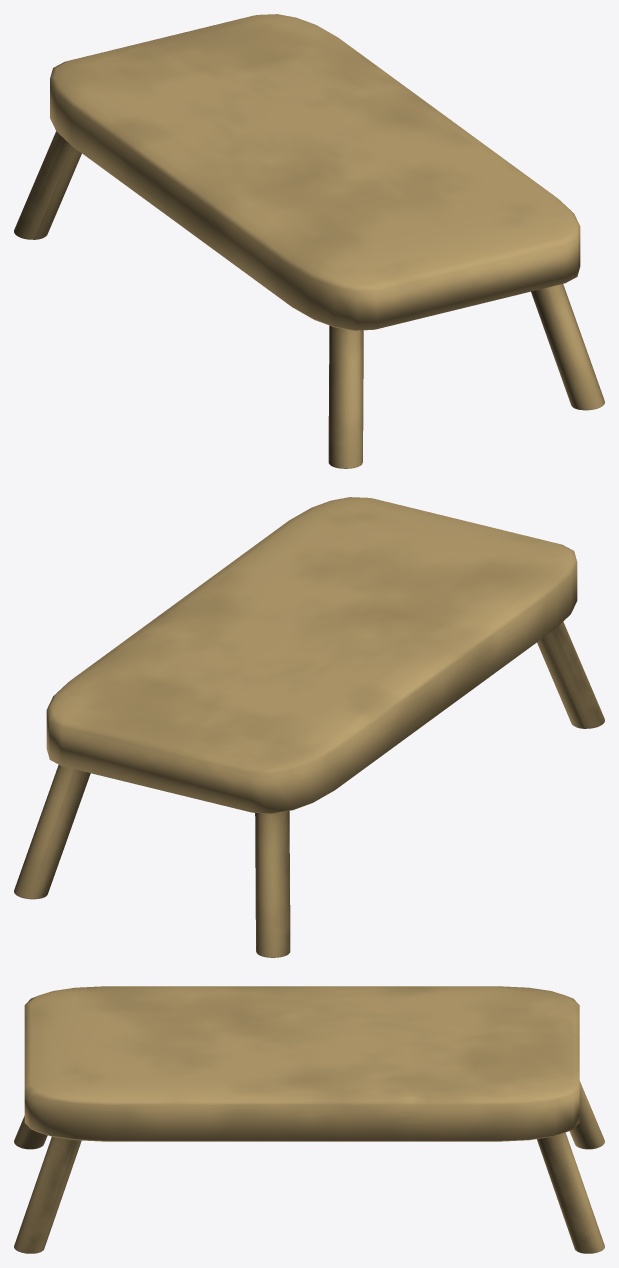
File: Meja_makan 1.fbx
3 views of the same model, one above another, from view 1: azimuth 30°, elevation 25°; view 2: azimuth 150°, elevation 25°; view 3: azimuth 270°, elevation 25° (orthographic). The views are drawn at different scales.
Parts seen in each view (by area): view 1: Cube.046, Cylinder.022, Cylinder.010, Cylinder.023; view 2: Cube.046, Cylinder.023, Cylinder.024, Cylinder.022; view 3: Cube.046, Cylinder.024, Cylinder.010, Cylinder.023, Cylinder.022.
Part boxes in pixels (x1,y1,x2,y2): Cube.046: (50,14,580,330); Cylinder.022: (328,325,363,468); Cylinder.010: (531,284,604,410); Cylinder.023: (14,131,81,239); Cube.046: (46,497,577,813); Cylinder.023: (255,811,290,957); Cylinder.024: (14,765,90,899); Cylinder.022: (537,621,604,728); Cube.046: (24,986,579,1141); Cylinder.024: (537,1132,604,1253); Cylinder.010: (14,1136,81,1253); Cylinder.023: (569,1081,604,1149); Cylinder.022: (14,1116,47,1149).
Bounding box in the file's own units: 101 × 62.76 × 213.
Materials: 1 (1 with a texture image).
